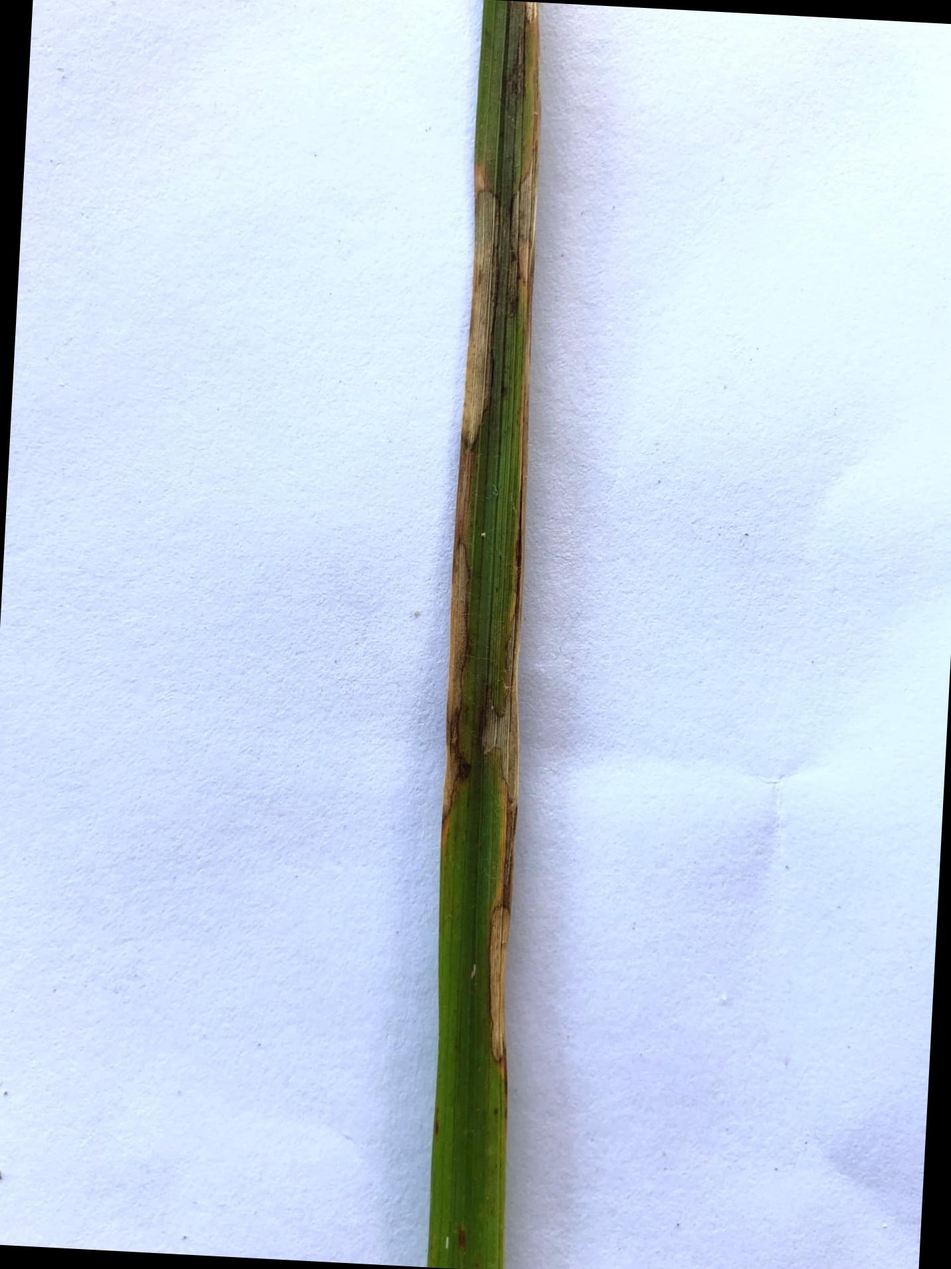Leaf Blight: (482, 645, 518, 1094), (444, 418, 471, 828), (462, 159, 500, 443), (508, 2, 537, 330)
